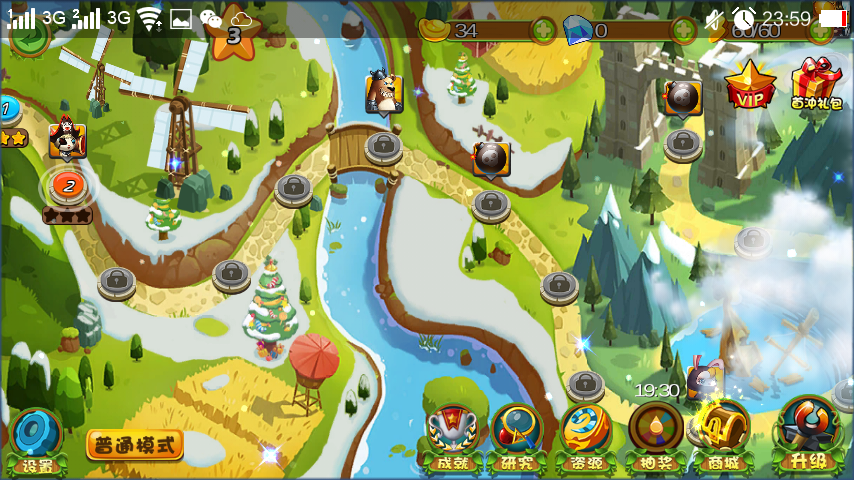imgbutton: (7, 405, 66, 477)
